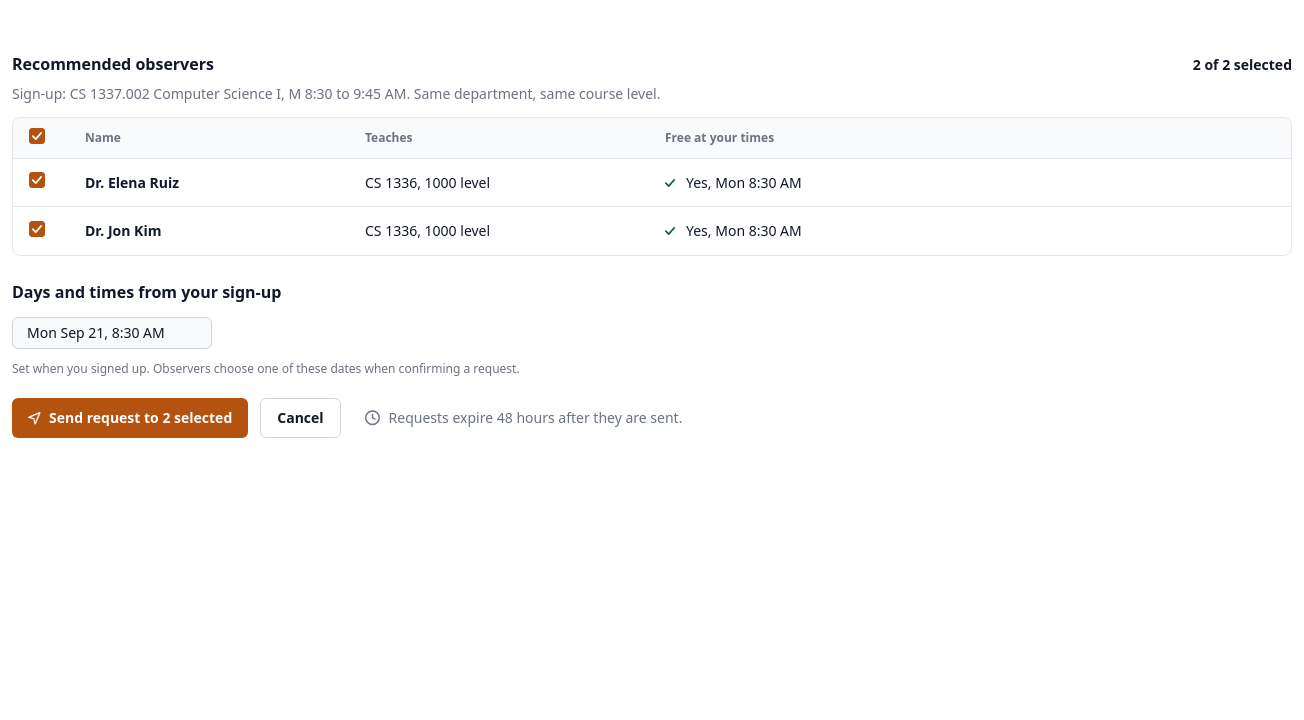
keeps the selection after a failed send and lets the professor retry
This screenshot has width=1304, height=720.
Click the checkbox named "Dr. Elena Ruiz": (37, 180) [29,172,45,188]
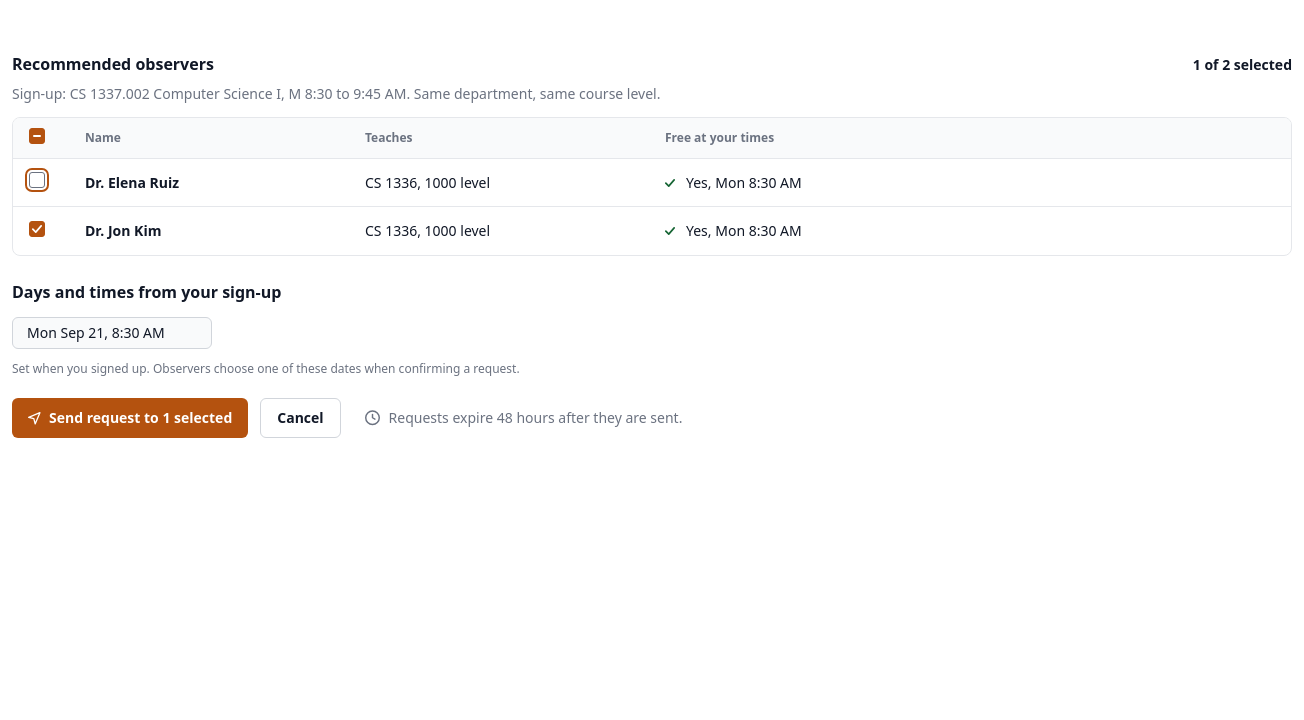
Click the button "Send request to 1 selected": (130, 418) [12,398,248,438]
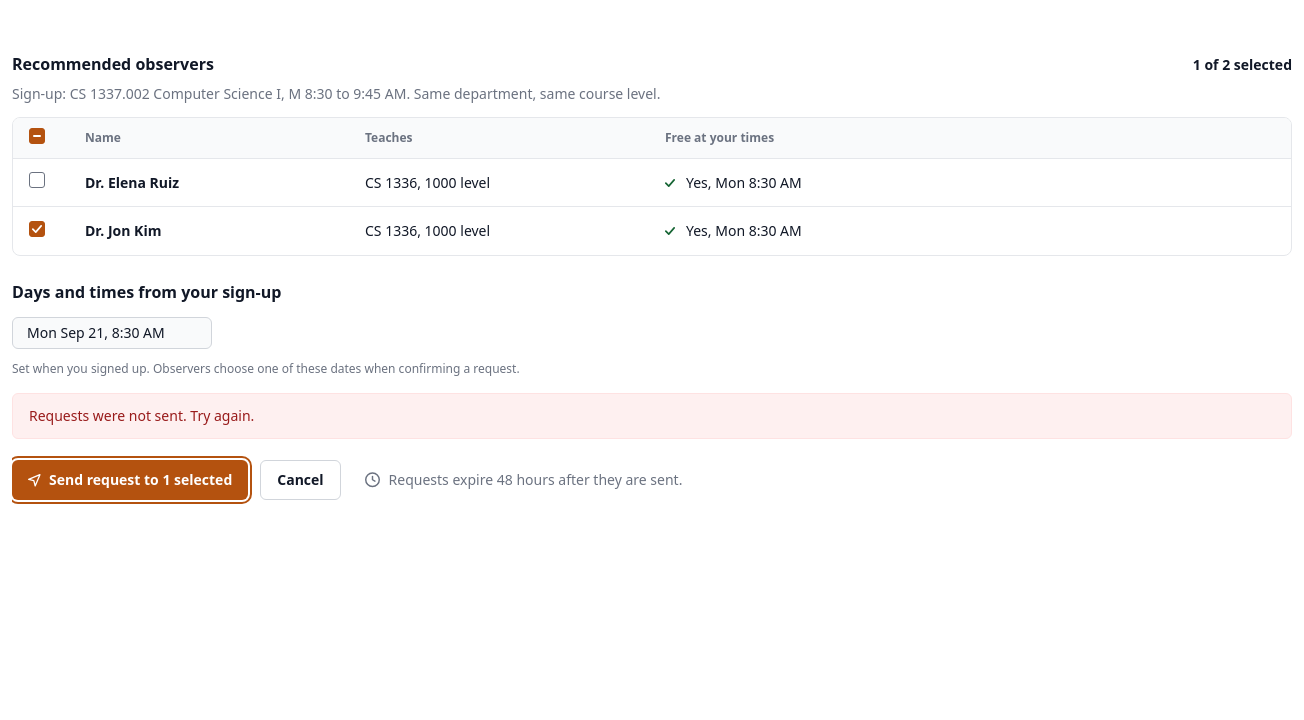
Expected: the checkbox named "Dr. Jon Kim" is checked, [29,220,45,236]
Expected: the checkbox named "Dr. Elena Ruiz" is not checked, [29,172,45,188]
Expected: the message reads "Requests were not sent. Try again.", [29,406,254,425]
Click the button "Send request to 1 selected": (130, 480) [12,460,248,500]
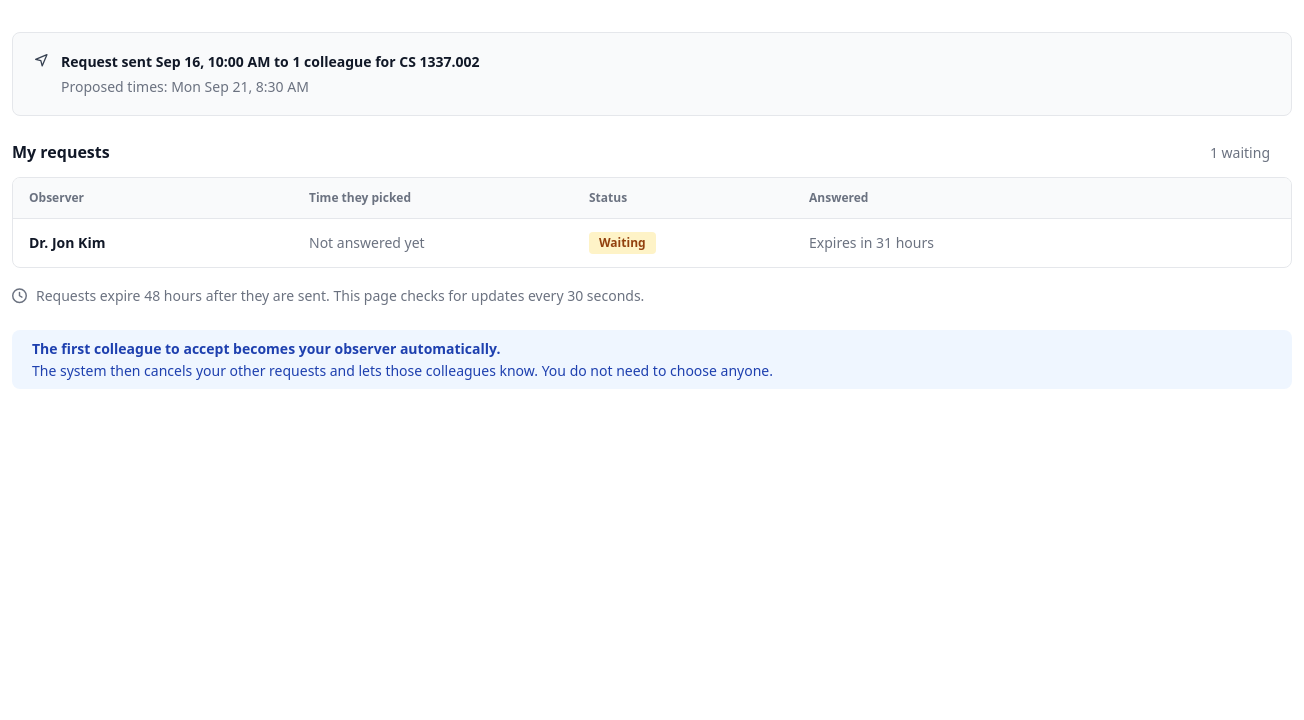
Expected: the text "Request sent Sep 16, 10:00 AM to 1 colleague for CS 1337.002" is shown, [61,52,480,72]
